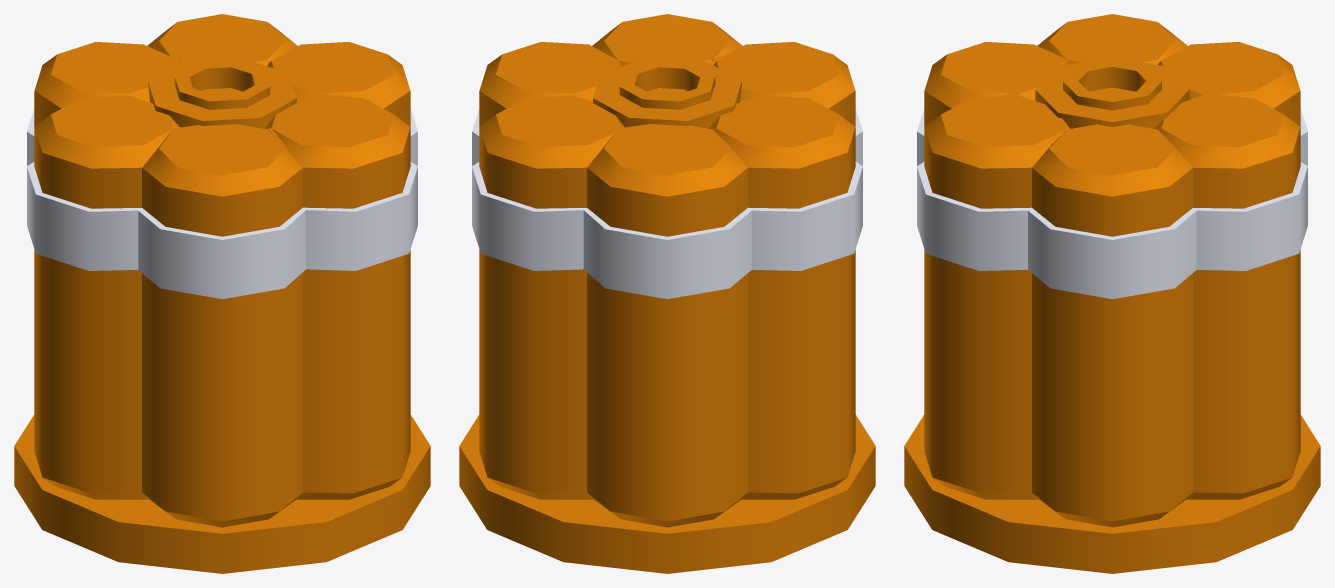
The model's file is Ammo_Pickup_1.fbx.
3 views of the same model, side by side, from view 1: azimuth 30°, elevation 25°; view 2: azimuth 150°, elevation 25°; view 3: azimuth 270°, elevation 25° (orthographic).
Parts seen in each view (by area): view 1: magazine_hercules_grenadeBarrel; view 2: magazine_hercules_grenadeBarrel; view 3: magazine_hercules_grenadeBarrel.
Boxes of the visible parts, bbox=[...] form: magazine_hercules_grenadeBarrel: bbox=[14, 14, 430, 573]; magazine_hercules_grenadeBarrel: bbox=[459, 14, 875, 573]; magazine_hercules_grenadeBarrel: bbox=[904, 14, 1320, 573].
Size of the model in its own units: 7.79 by 8.47 by 7.52.
